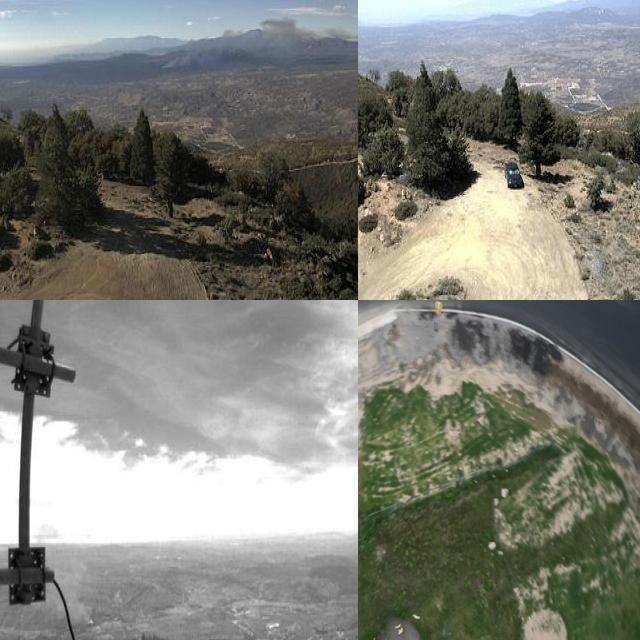smoke: (154, 9, 358, 75), (52, 551, 96, 630)
